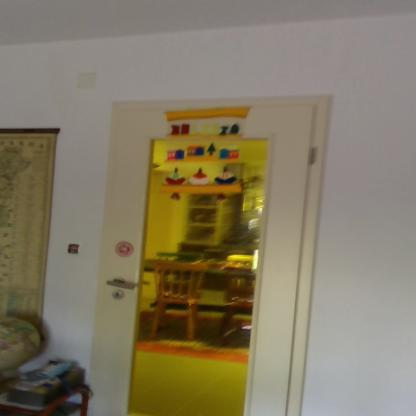door: (98, 104, 304, 416)
hinged: (307, 146, 315, 167)
lever: (106, 279, 138, 293)
